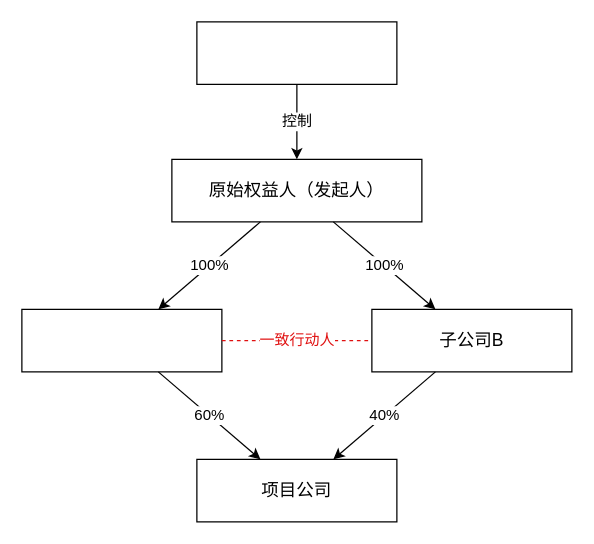
Image size: 594x544. Some labels were removed from this diagram. Each missing label, with the centre of its shape:
子公司A: pixel 121 340
实际控制人: pixel 296 52
